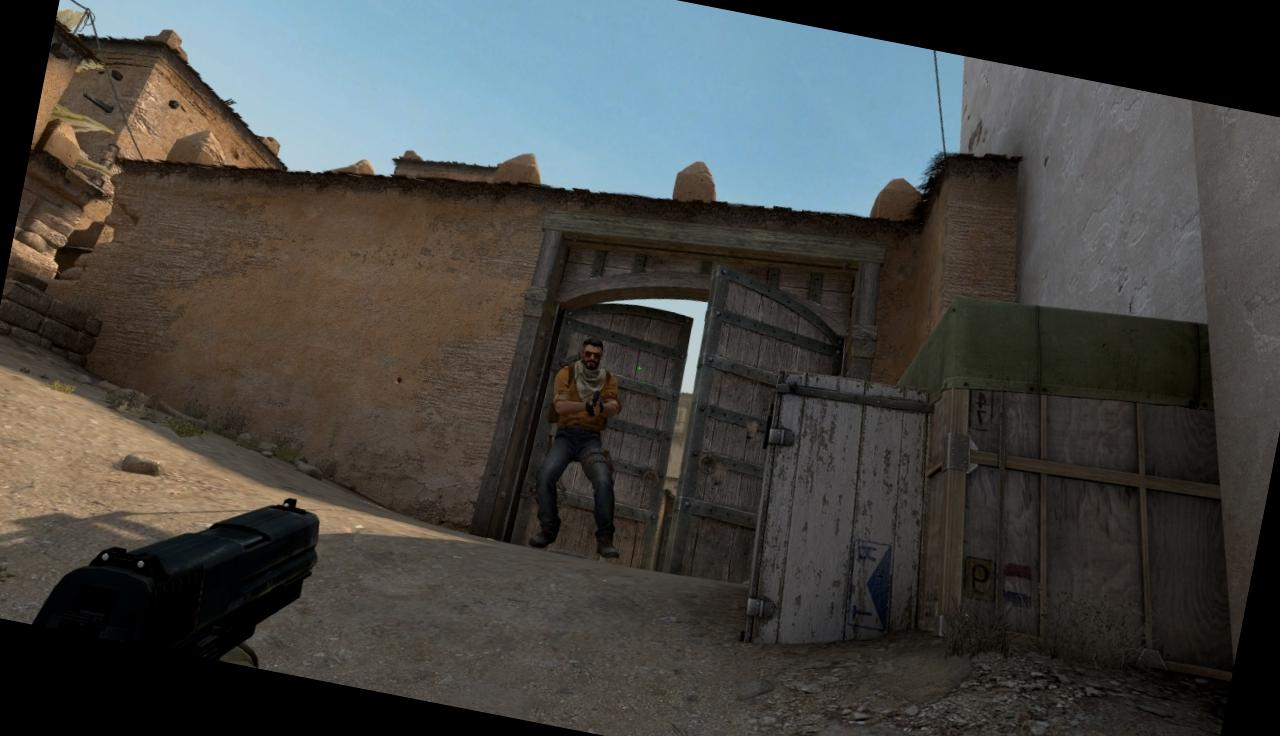pistol: (37, 455, 326, 676)
tt: (525, 336, 639, 558)
tthead: (578, 339, 606, 372)
